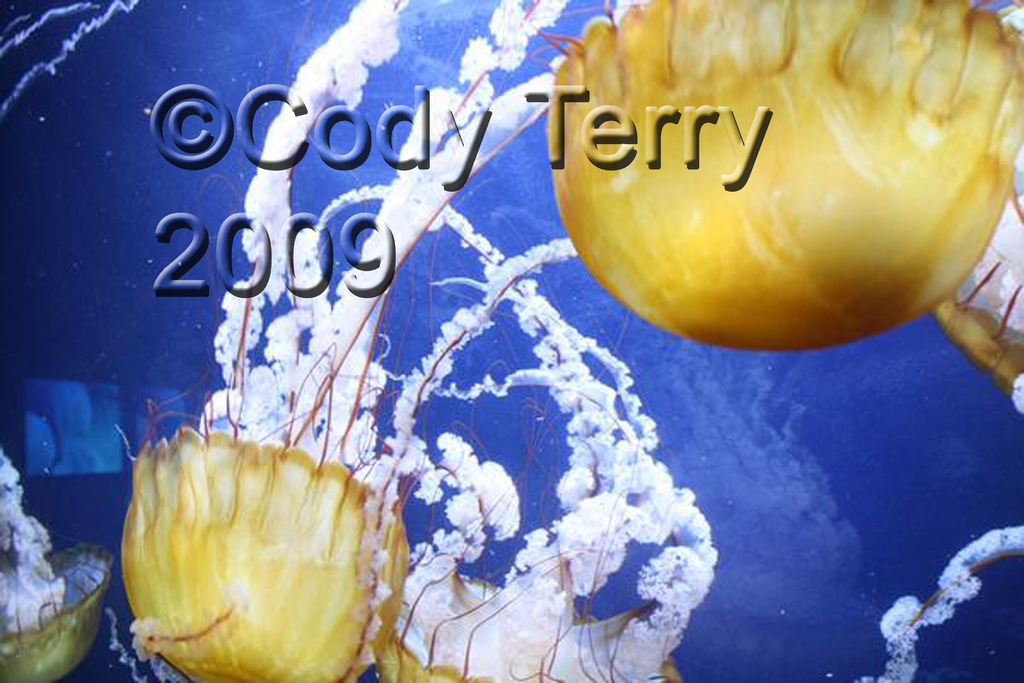Jellyfish: (418, 0, 1023, 682), (97, 310, 419, 670), (0, 436, 116, 682)
